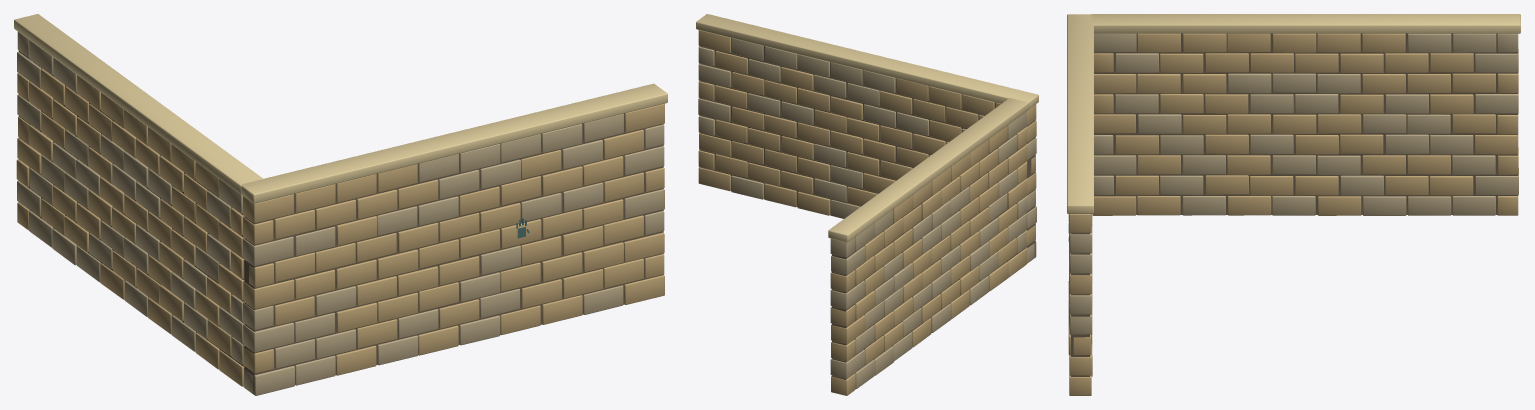
File: wall_corner.glb
The picture shows the model from 3 angles, left to right: view 1: azimuth 30°, elevation 25°; view 2: azimuth 150°, elevation 25°; view 3: azimuth 270°, elevation 25°; orthographic projection. The views are drawn at different scales.
Parts seen in each view (by area): view 1: wall_a_cap, wall_b_cap, wall_a_core, wall_b_core, wall_a_b2, wall_a_b4, wall_a_b6, wall_a_b0, wall_a_b8, wall_a_b4.003, wall_a_b6.002, wall_a_b2.002 (+84 smaller); view 2: wall_a_cap, wall_b_cap, wall_a_core, wall_b_core, wall_b_b5.009, wall_b_b7.009, wall_b_b1.009, wall_b_b3.009, wall_a_b5.005, wall_a_b0.006, wall_a_b2.006, wall_a_b6.009 (+137 smaller); view 3: wall_b_cap, wall_b_core, wall_a_cap, wall_b_b4.004, wall_b_b7.002, wall_b_b6.003, wall_b_b7.006, wall_b_b1.001, wall_b_b1.006, wall_b_b2.005, wall_b_b3.004, wall_b_b4.007 (+91 smaller).
Part boxes in pixels (x1=…): wall_a_cap: x1=241, y1=83, x2=667, y2=203; wall_b_cap: x1=14, y1=14, x2=263, y2=194; wall_a_core: x1=244, y1=113, x2=663, y2=394; wall_b_core: x1=18, y1=51, x2=244, y2=366; wall_a_b2: x1=243, y1=322, x2=294, y2=352; wall_a_b4: x1=243, y1=279, x2=294, y2=309; wall_a_b6: x1=242, y1=236, x2=293, y2=266; wall_a_b0: x1=244, y1=366, x2=294, y2=395; wall_a_b8: x1=243, y1=194, x2=293, y2=223; wall_a_b4.003: x1=377, y1=249, x2=418, y2=279; wall_a_b6.002: x1=336, y1=216, x2=377, y2=245; wall_a_b2.002: x1=336, y1=302, x2=377, y2=332; wall_a_cap: x1=696, y1=14, x2=1038, y2=108; wall_b_cap: x1=828, y1=98, x2=1029, y2=242; wall_a_core: x1=699, y1=38, x2=1035, y2=257; wall_b_core: x1=832, y1=134, x2=1025, y2=379; wall_b_b5.009: x1=830, y1=280, x2=864, y2=309; wall_b_b7.009: x1=831, y1=246, x2=865, y2=275; wall_b_b1.009: x1=830, y1=350, x2=864, y2=378; wall_b_b3.009: x1=831, y1=315, x2=865, y2=344; wall_a_b5.005: x1=846, y1=117, x2=879, y2=141; wall_a_b0.006: x1=797, y1=191, x2=830, y2=215; wall_a_b2.006: x1=797, y1=157, x2=830, y2=181; wall_a_b6.009: x1=698, y1=64, x2=731, y2=87; wall_b_cap: x1=1091, y1=14, x2=1520, y2=33; wall_b_core: x1=1094, y1=33, x2=1517, y2=214; wall_a_cap: x1=1067, y1=14, x2=1093, y2=213; wall_b_b4.004: x1=1272, y1=114, x2=1316, y2=134; wall_b_b7.002: x1=1159, y1=53, x2=1203, y2=73; wall_b_b6.003: x1=1227, y1=73, x2=1271, y2=93; wall_b_b7.006: x1=1340, y1=53, x2=1383, y2=73; wall_b_b1.001: x1=1115, y1=175, x2=1158, y2=195; wall_b_b1.006: x1=1340, y1=175, x2=1383, y2=195; wall_b_b2.005: x1=1317, y1=155, x2=1360, y2=175; wall_b_b3.004: x1=1250, y1=134, x2=1293, y2=154; wall_b_b4.007: x1=1407, y1=114, x2=1450, y2=134.
Bounding box in the file's own units: 4.04 × 1.89 × 4.03.
